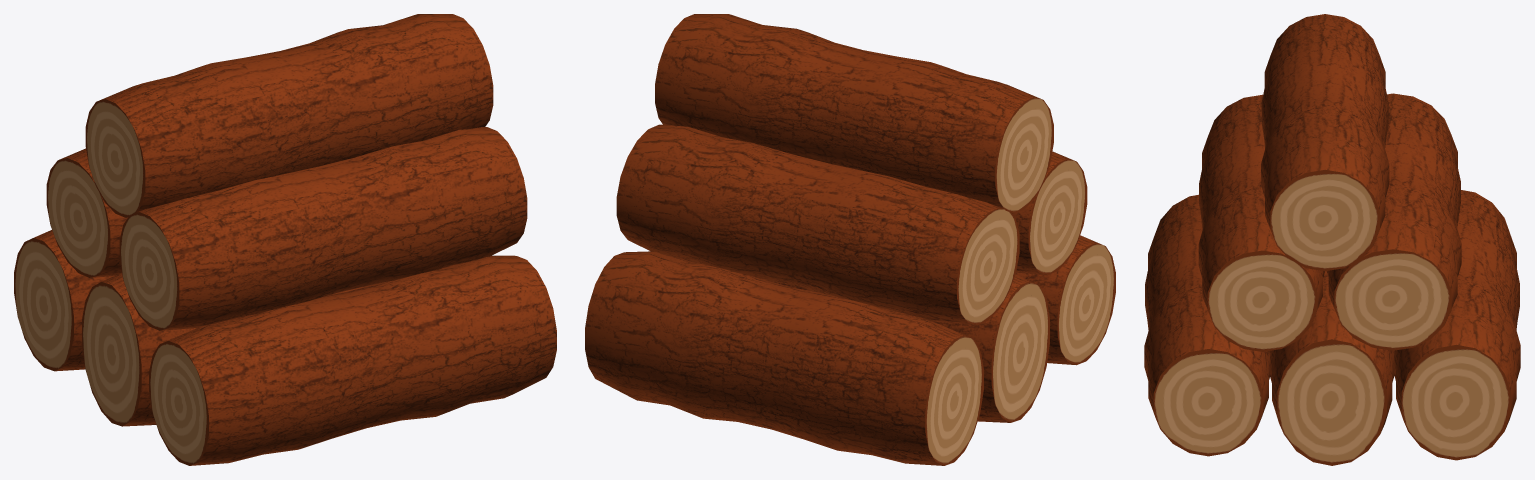
The model's file is Pila_madera.fbx.
3 views of the same model, side by side, from view 1: azimuth 30°, elevation 25°; view 2: azimuth 150°, elevation 25°; view 3: azimuth 270°, elevation 25° (orthographic). The views are drawn at different scales.
Parts seen in each view (by area): view 1: Cylinder003, Cylinder004, Cylinder006, Cylinder002, Cylinder001, Cylinder005; view 2: Cylinder001, Cylinder005, Cylinder006, Cylinder002, Cylinder003, Cylinder004; view 3: Cylinder006, Cylinder005, Cylinder001, Cylinder003, Cylinder004, Cylinder002.
Boxes of the visible parts, <box> form: Cylinder003: <box>149,255,556,465</box>; Cylinder004: <box>119,127,527,330</box>; Cylinder006: <box>85,14,493,217</box>; Cylinder002: <box>82,273,370,426</box>; Cylinder001: <box>14,230,113,371</box>; Cylinder005: <box>46,148,127,277</box>; Cylinder001: <box>585,251,983,465</box>; Cylinder005: <box>616,124,1019,325</box>; Cylinder006: <box>655,14,1053,213</box>; Cylinder002: <box>765,274,1049,422</box>; Cylinder003: <box>1016,235,1115,365</box>; Cylinder004: <box>1011,151,1087,275</box>; Cylinder006: <box>1261,14,1389,271</box>; Cylinder005: <box>1326,93,1461,350</box>; Cylinder001: <box>1394,190,1520,460</box>; Cylinder003: <box>1144,194,1270,456</box>; Cylinder004: <box>1198,94,1324,351</box>; Cylinder002: <box>1270,271,1394,465</box>.
Bounding box in the file's own units: 0.4098 × 0.3868 × 0.418.
1 material, 1 textured.
